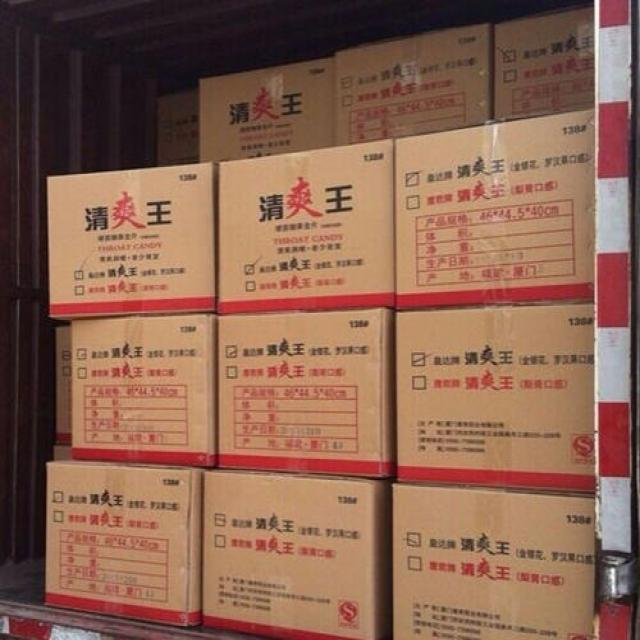box: (394, 108, 595, 310), (396, 305, 595, 495), (393, 485, 597, 639), (204, 471, 391, 639), (217, 308, 396, 478), (218, 141, 395, 312), (46, 458, 207, 626), (49, 163, 215, 323), (71, 315, 216, 469), (332, 24, 496, 146), (199, 57, 335, 164), (495, 9, 593, 122), (157, 92, 199, 166), (56, 324, 71, 446), (55, 442, 69, 463)
